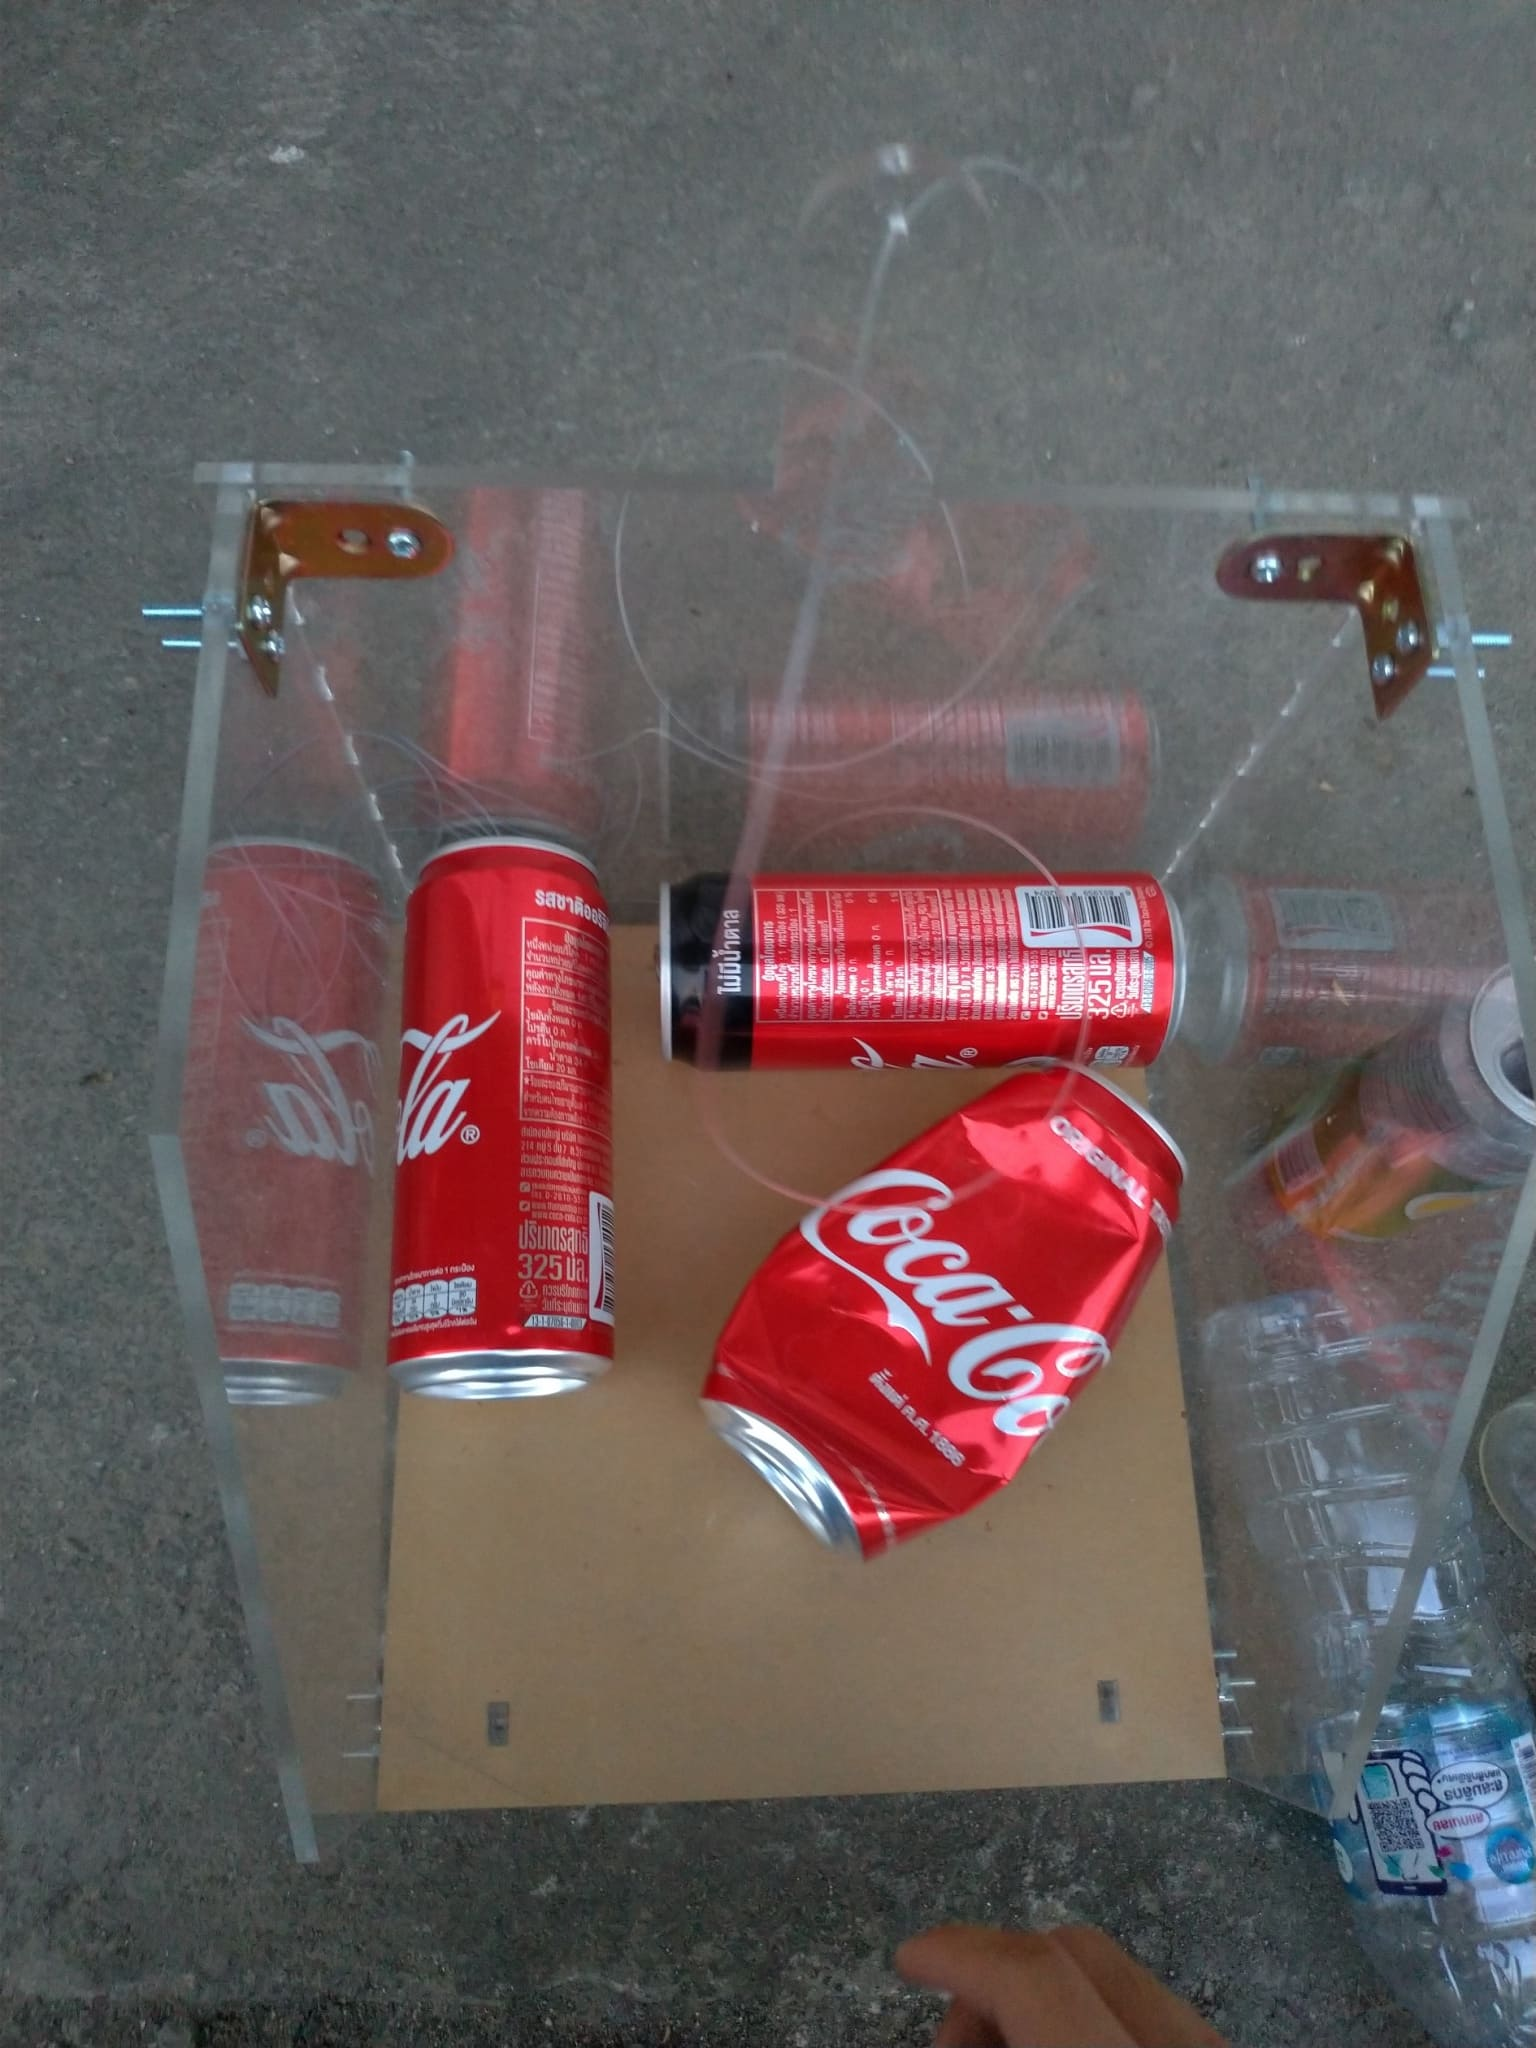AlCan: (700, 1061, 1184, 1555), (386, 835, 620, 1400), (662, 868, 1191, 1077), (1226, 961, 1536, 1256)
PlasticBottle: (1199, 1284, 1536, 2029)
